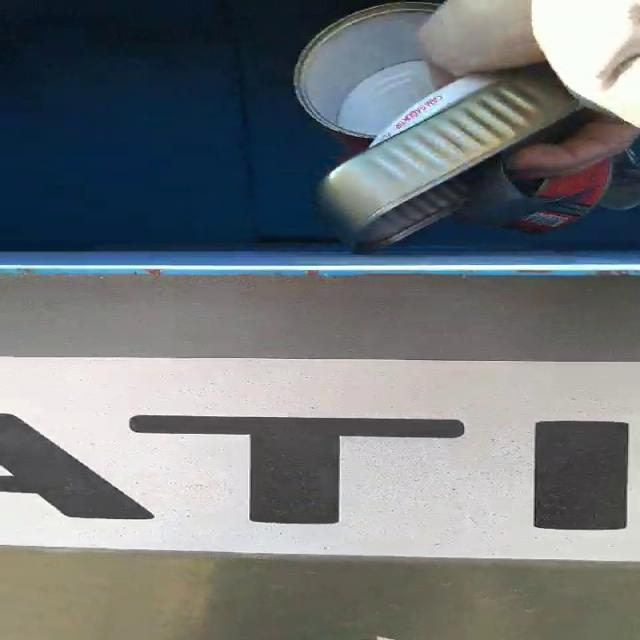bin: (1, 0, 640, 365), (1, 548, 640, 640)
metal: (296, 2, 613, 251)
